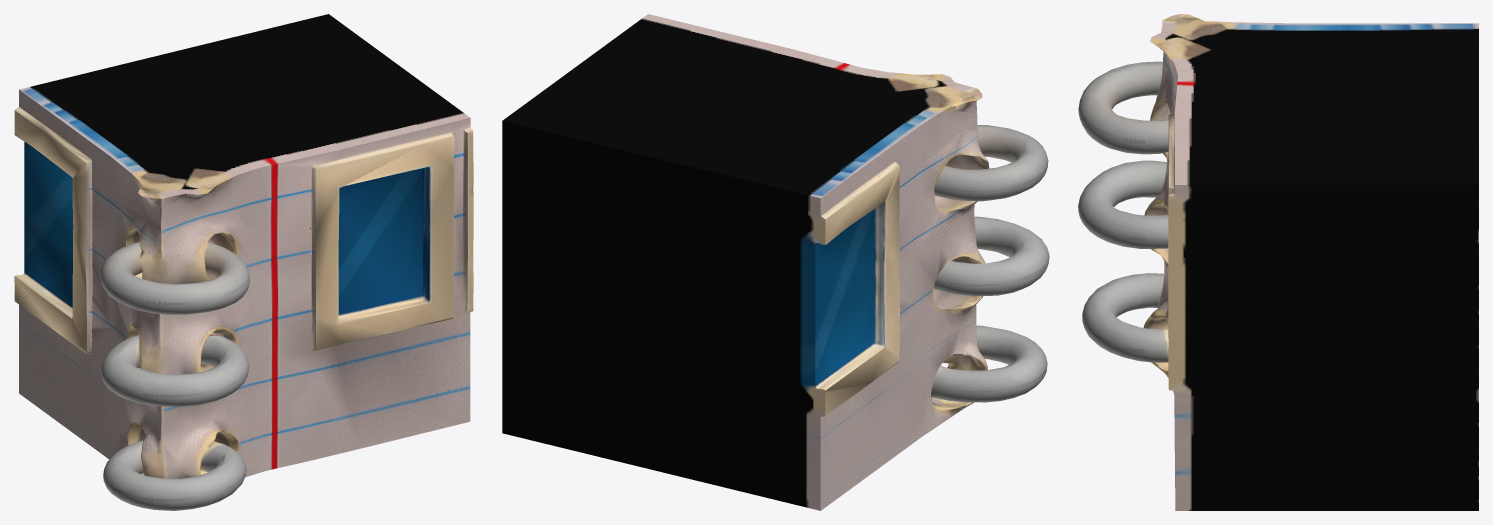
The model's file is 5-upper-walls-front-left.fbx.
The picture shows the model from 3 angles, left to right: view 1: azimuth 30°, elevation 25°; view 2: azimuth 150°, elevation 25°; view 3: azimuth 270°, elevation 25°; orthographic projection. The views are drawn at different scales.
Parts seen in each view (by area): view 1: upper-walls-front-left; view 2: upper-walls-front-left; view 3: upper-walls-front-left.
Part boxes in pixels (x1,y1,x2,y2): upper-walls-front-left: (14, 14, 473, 510); upper-walls-front-left: (502, 14, 1049, 510); upper-walls-front-left: (1078, 14, 1478, 510).
Size of the model in its own units: 7998 by 6252 by 6972.
Materials: 1 (1 with a texture image).
